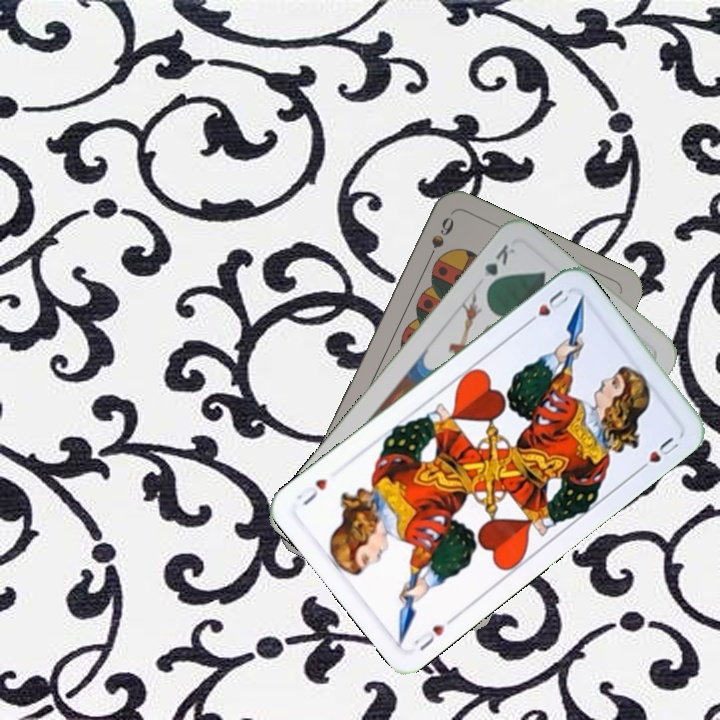GK: (479, 239, 518, 294)
HU: (520, 285, 573, 329), (409, 620, 448, 654)
S9: (422, 213, 457, 269)
